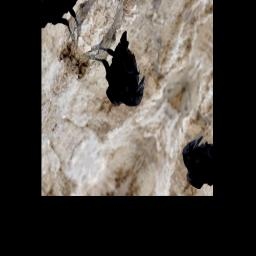Crow: (79, 16, 162, 122)
